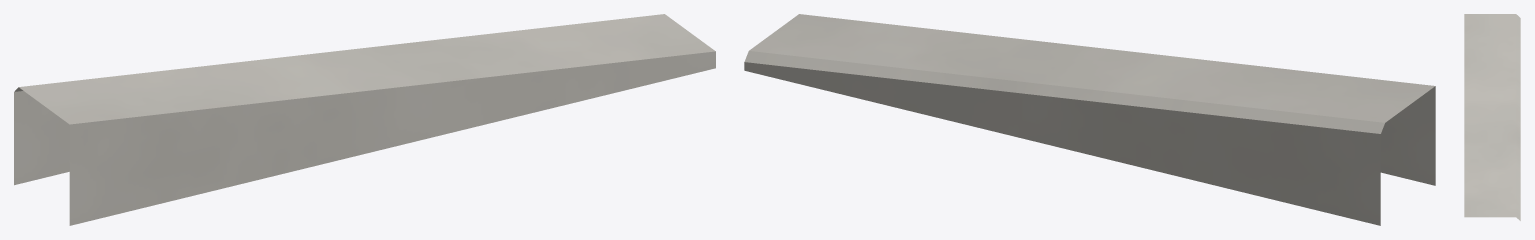
File: strip_low_cw.obj
3 views of the same model, side by side, from view 1: azimuth 30°, elevation 25°; view 2: azimuth 150°, elevation 25°; view 3: azimuth 270°, elevation 25° (orthographic). The views are drawn at different scales.
Parts seen in each view (by area): view 1: strip_low_cw; view 2: strip_low_cw; view 3: strip_low_cw.
Boxes of the visible parts, bbox=[...] form: strip_low_cw: bbox=[14, 14, 715, 225]; strip_low_cw: bbox=[744, 14, 1435, 225]; strip_low_cw: bbox=[1464, 14, 1520, 220].
Size of the model in its own units: 1 by 0.15 by 0.149.
